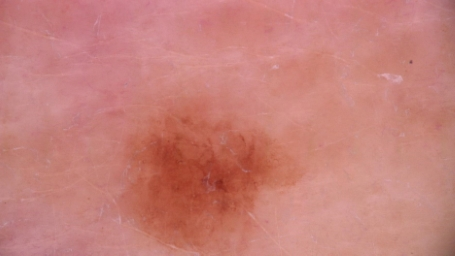melanoma: (120, 113, 274, 256)
